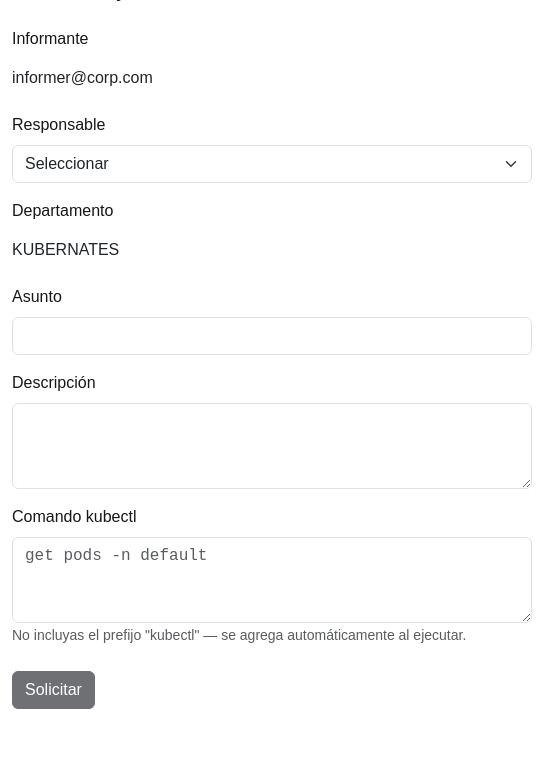
KubectlCommandTicketForm › shows a submitting label while the request is pending
Select "Ana" in the dropdown labelled "Responsable". click: [272, 164]
box: [12,145,532,183]
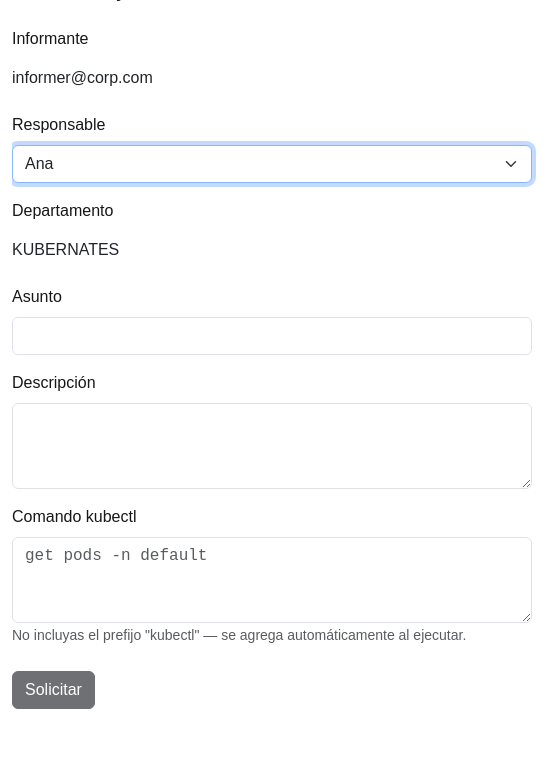
Type "Add index" into the field labelled "Asunto". click: [272, 336]
box: [12,317,532,355]
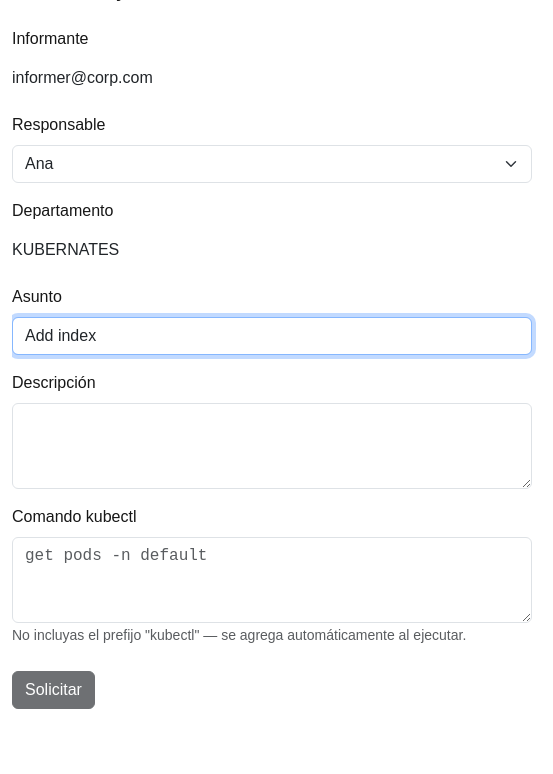
Type "Needs an index" into the text box labelled "Descripción". click: [272, 446]
box: [12,403,532,489]
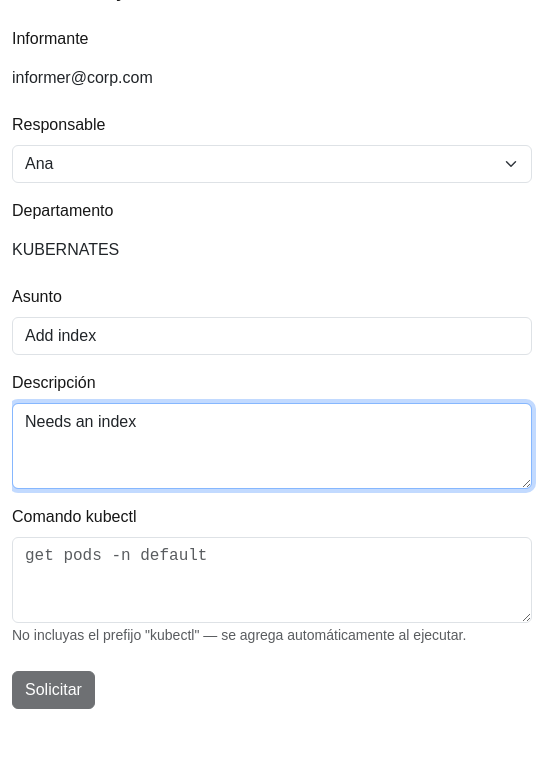
Type "get pods" into the text box labelled "Comando kubectl". click: [272, 580]
box: [12,537,532,623]
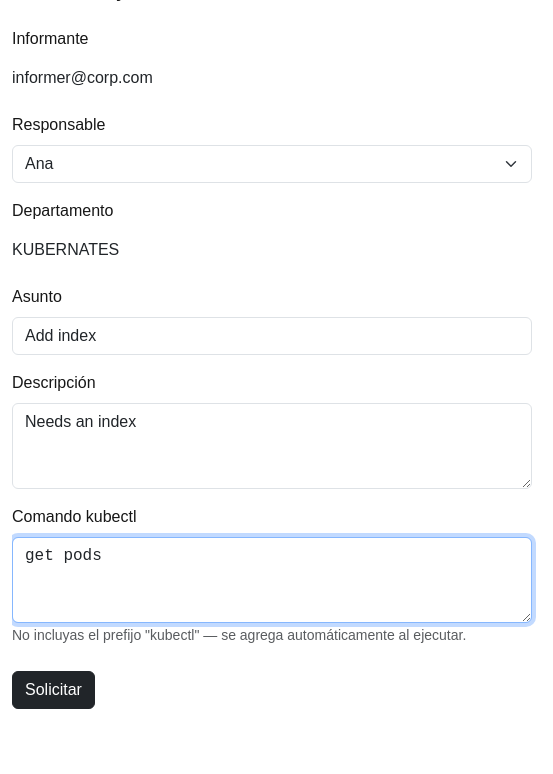
Click the button "Solicitar". click: [53, 690]
box: [12,671,95,709]
(page scrolled)
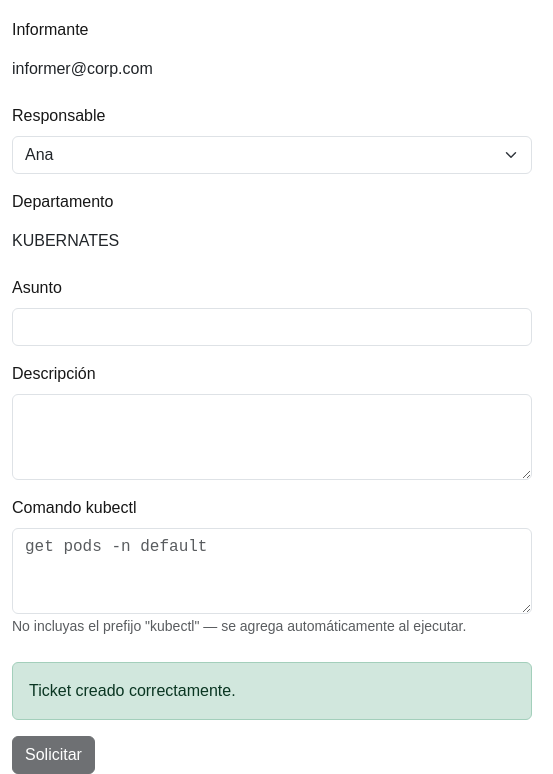
Expected: the button named "Enviando…" is disabled, [12,736,95,773]
